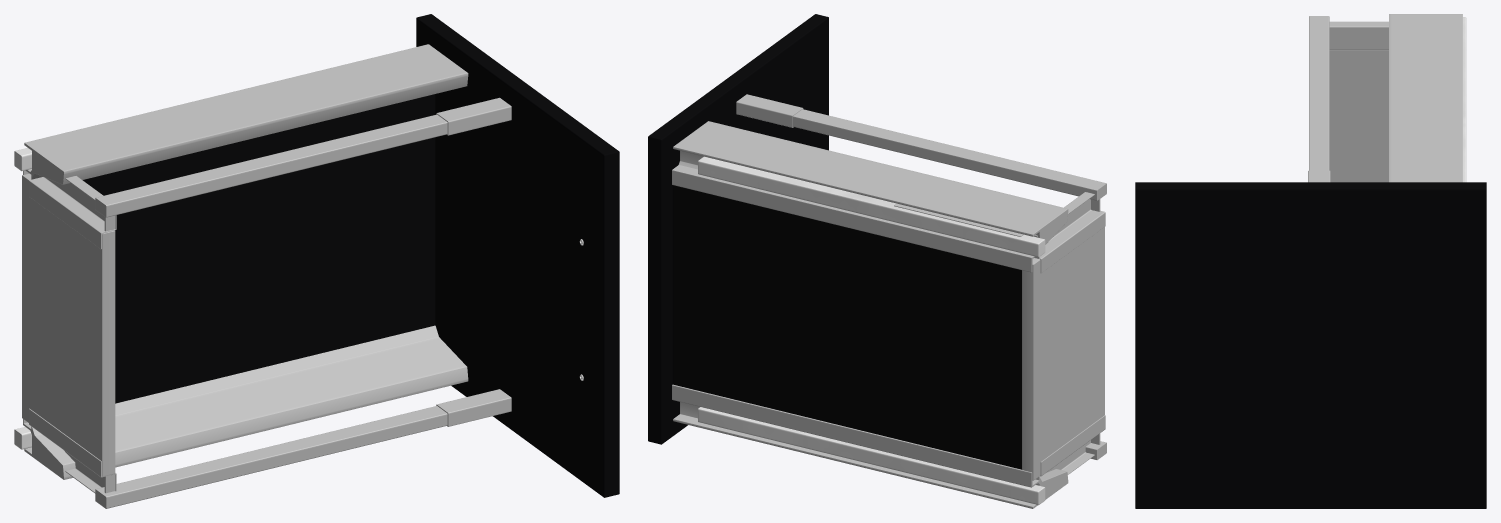
Rendered from Kitchen06Drawer03.obj.
3 renders of one model, left to right at view 1: azimuth 30°, elevation 25°; view 2: azimuth 150°, elevation 25°; view 3: azimuth 270°, elevation 25°, orthographic. The views are drawn at different scales.
Visible parts, largest first — view 1: Kitchen06Drawer03; view 2: Kitchen06Drawer03; view 3: Kitchen06Drawer03.
Boxes of the visible parts, <box> form: Kitchen06Drawer03: <box>14,14,619,508</box>; Kitchen06Drawer03: <box>648,14,1106,508</box>; Kitchen06Drawer03: <box>1135,14,1486,508</box>.
Size of the model in its own units: 0.5199 by 0.398 by 0.396.
Materials: 4 (1 with a texture image).
